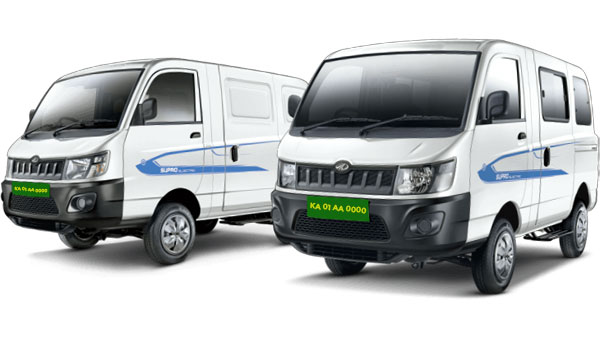number_plate: (307, 194, 373, 223)
